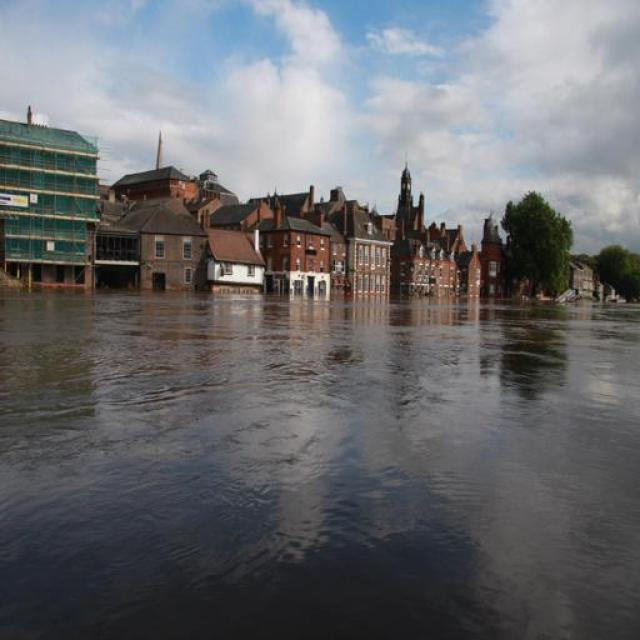puddle: (9, 300, 610, 542)
